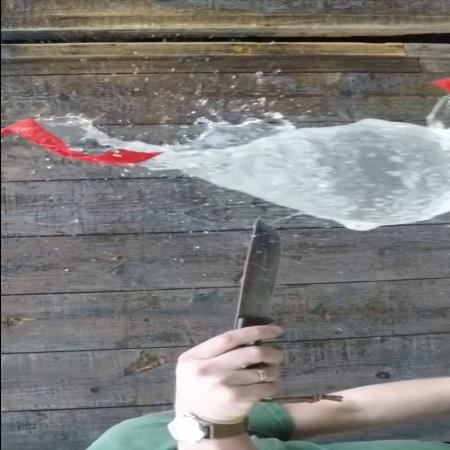long weapon: (165, 212, 292, 383)
